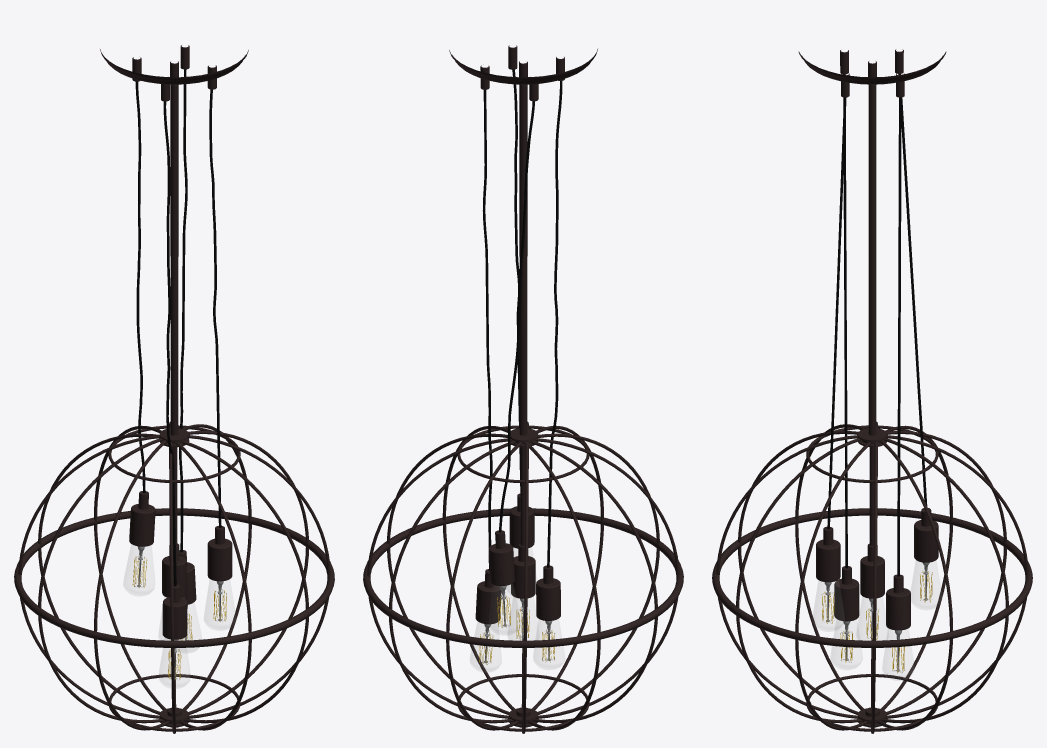
The model's file is lamp_B071HSN4ZJ.glb.
3 views of the same model, side by side, from view 1: azimuth 30°, elevation 25°; view 2: azimuth 150°, elevation 25°; view 3: azimuth 270°, elevation 25° (orthographic).
Visible parts, largest first — view 1: "$AAJHBHJKAJBAAAAAICBAAAAAAAAADBEDIMJO"; view 2: "$AAJHBHJKAJBAAAAAICBAAAAAAAAADBEDIMJO"; view 3: "$AAJHBHJKAJBAAAAAICBAAAAAAAAADBEDIMJO".
Part boxes in pixels (x1,y1,x2,y2): "$AAJHBHJKAJBAAAAAICBAAAAAAAAADBEDIMJO": (14,45,334,733); "$AAJHBHJKAJBAAAAAICBAAAAAAAAADBEDIMJO": (363,45,683,733); "$AAJHBHJKAJBAAAAAICBAAAAAAAAADBEDIMJO": (712,49,1032,733).
Bounding box in the file's own units: 0.5009 × 1.17 × 0.5009.
1 material, 1 textured.
